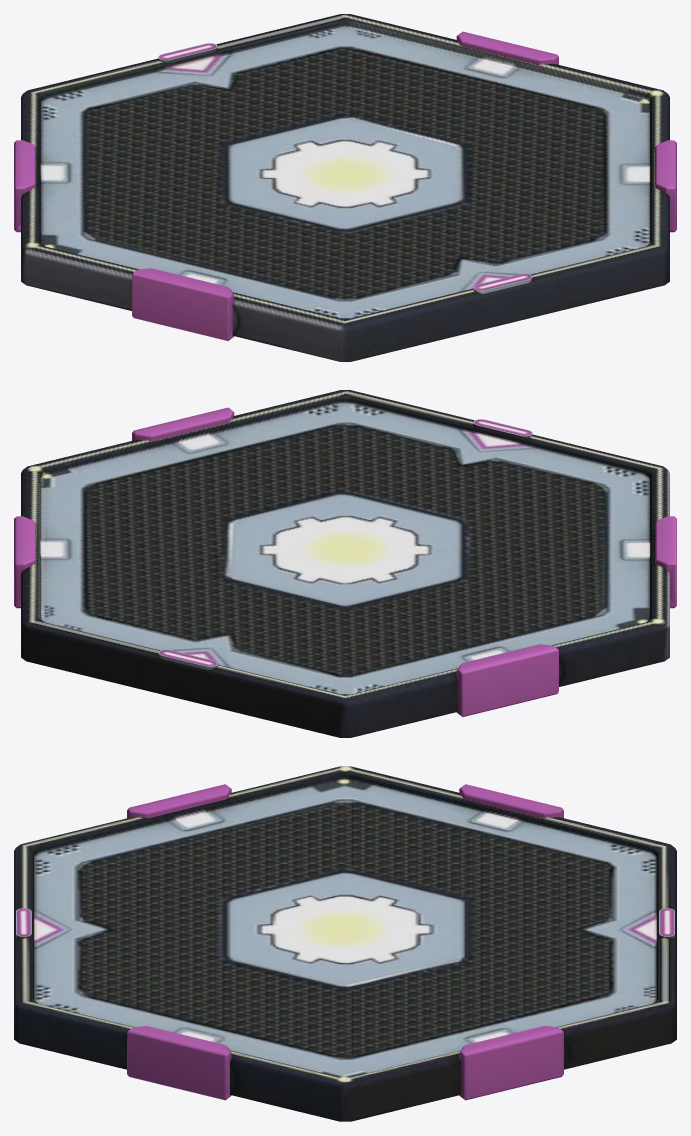
File: hexagon-platform-medium01-art.glb
3 renders of one model, top to bottom at view 1: azimuth 30°, elevation 25°; view 2: azimuth 150°, elevation 25°; view 3: azimuth 270°, elevation 25°, orthographic. The views are drawn at different scales.
Visible parts, largest first — view 1: HexagonPlatformMedium01_Art; view 2: HexagonPlatformMedium01_Art; view 3: HexagonPlatformMedium01_Art.
Boxes of the visible parts, x1,y1,x2,y2 form: HexagonPlatformMedium01_Art: [14, 14, 676, 361]; HexagonPlatformMedium01_Art: [14, 390, 676, 737]; HexagonPlatformMedium01_Art: [14, 766, 676, 1121].
Size of the model in its own units: 11.9 by 0.8122 by 10.39.
1 material, 1 textured.
